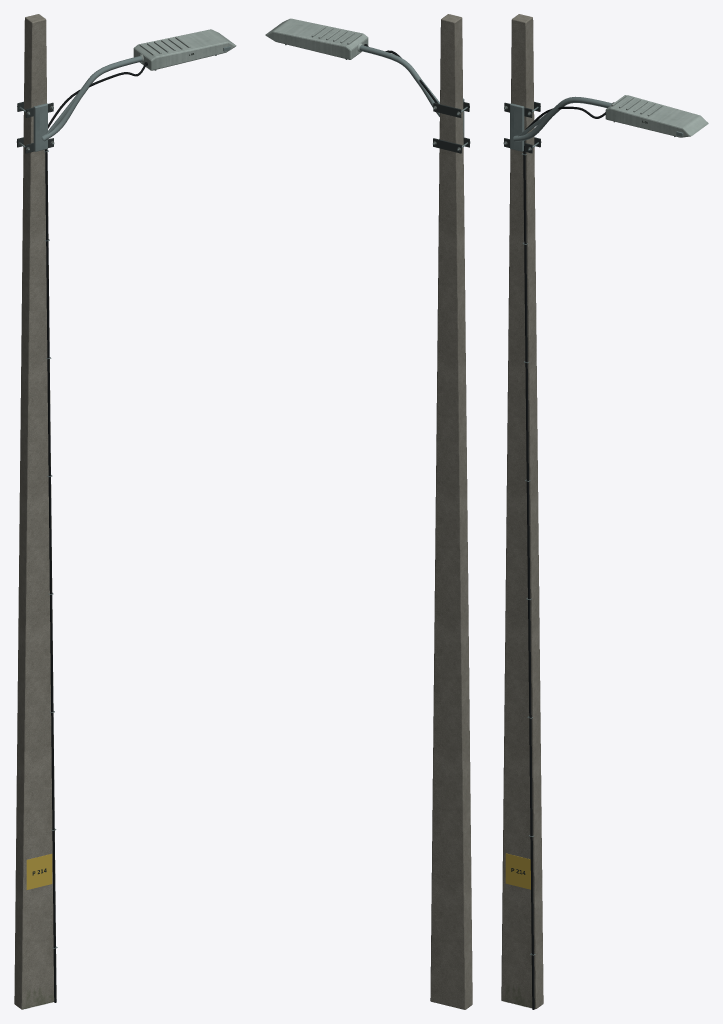
3 views of the same model, side by side, from view 1: azimuth 30°, elevation 25°; view 2: azimuth 150°, elevation 25°; view 3: azimuth 330°, elevation 25° (orthographic).
Parts seen in each view (by area): view 1: TF3_KR_U03; view 2: TF3_KR_U03; view 3: TF3_KR_U03.
Boxes of the visible parts, x1,y1,x2,y2 form: TF3_KR_U03: [14, 14, 236, 1009]; TF3_KR_U03: [265, 14, 472, 1009]; TF3_KR_U03: [501, 14, 708, 1009].
Size of the model in its own units: 1.62 by 7.5 by 0.321.
Materials: 10 (4 with a texture image).
